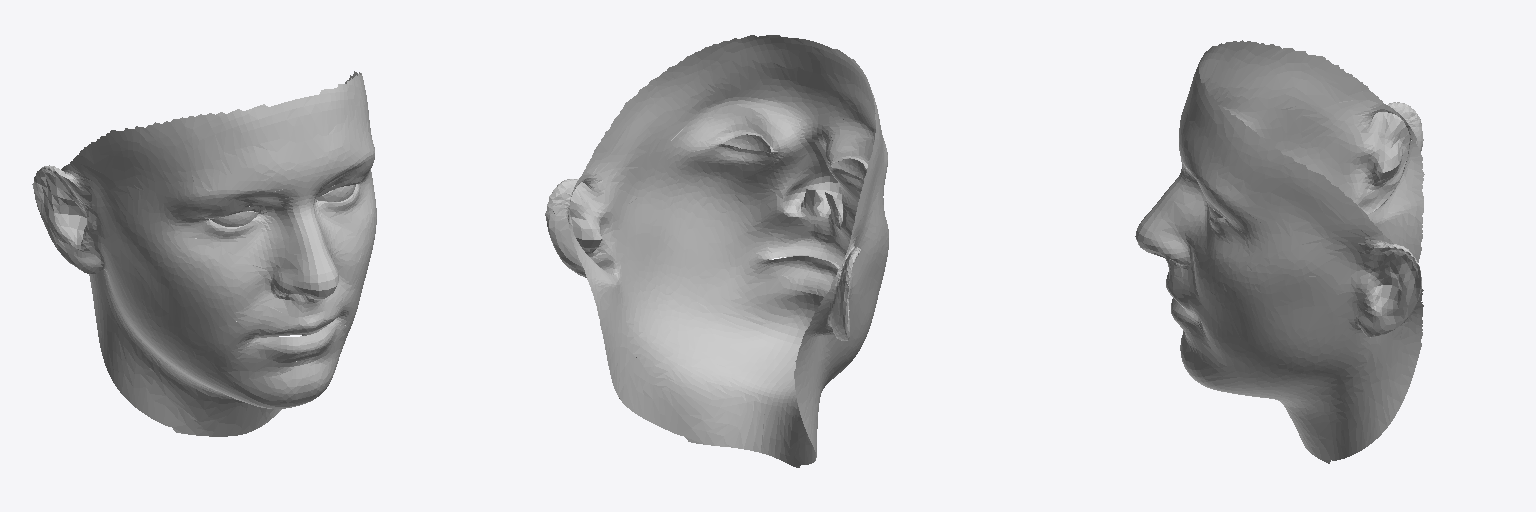
Rendered from meanShapeDown.obj.
3 renders of one model, left to right at view 1: azimuth 30°, elevation 25°; view 2: azimuth 150°, elevation 25°; view 3: azimuth 270°, elevation 25°, orthographic.
Visible parts, largest first — view 1: skin; view 2: skin; view 3: skin.
Part boxes in pixels (bbox=[...]): skin: bbox=[32, 71, 376, 436]; skin: bbox=[545, 35, 888, 467]; skin: bbox=[1135, 40, 1424, 463].
Bounding box in the file's own units: 180069 × 210924 × 147945.